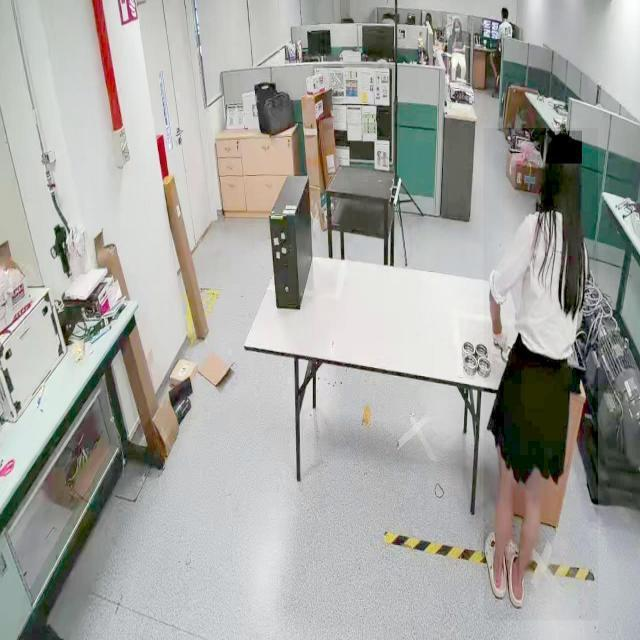gloves: (488, 319, 508, 358)
